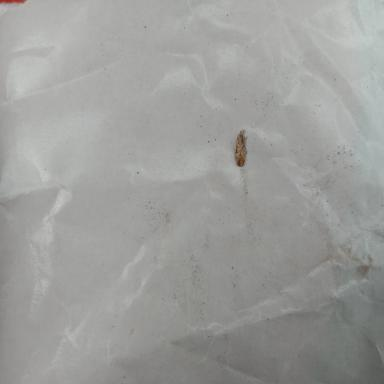pbw: (235, 129, 248, 167)
